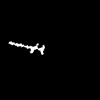double_crochet: (9, 42, 44, 53)
